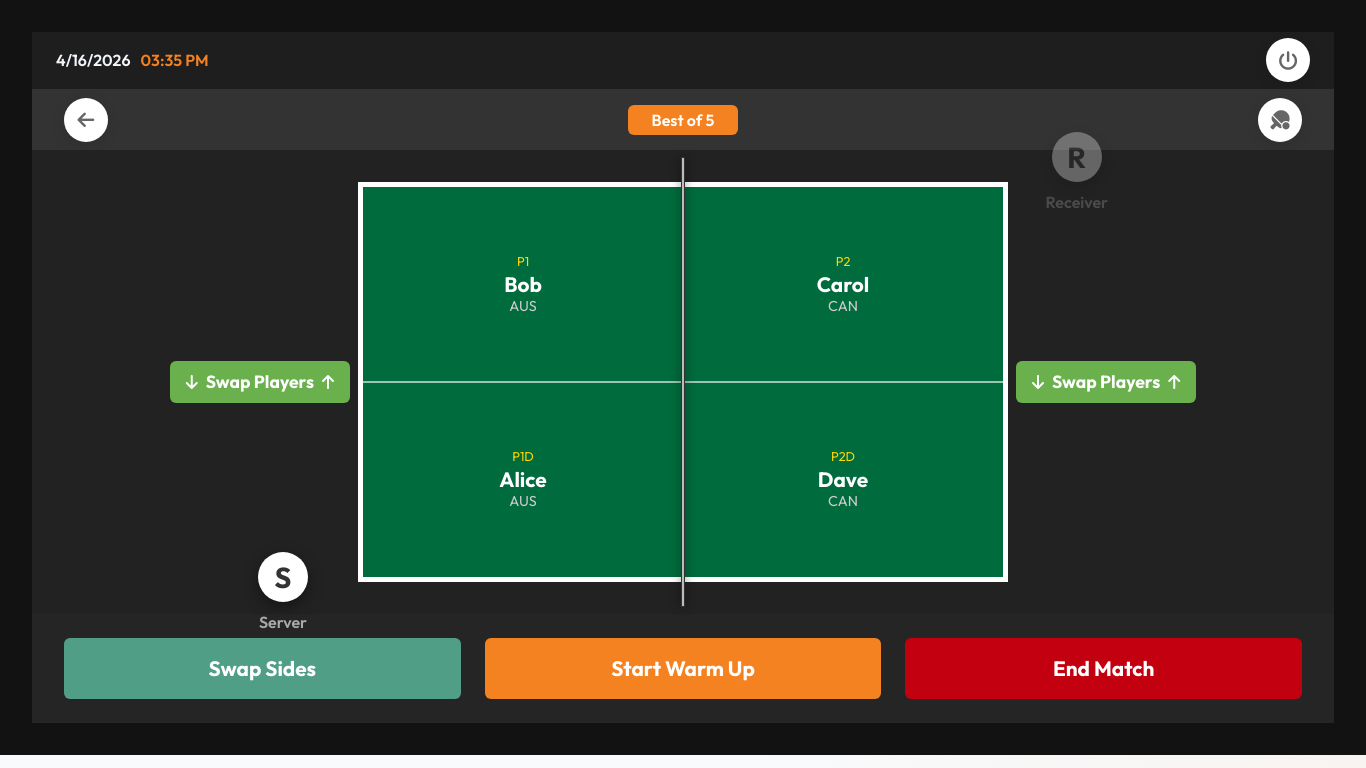
it: SetupView — doubles layout › Swap Players left button swaps TL and BL player names
The width and height of the screenshot is (1366, 768).
Expected: the element with class "doubles-tl" shows "Bob", left=504, top=271, right=542, bottom=297
Expected: the element with class "doubles-bl" shows "Alice", left=499, top=466, right=547, bottom=492
Click the button with class "swap-left-btn" at (260, 382), box left=170, top=361, right=350, bottom=403
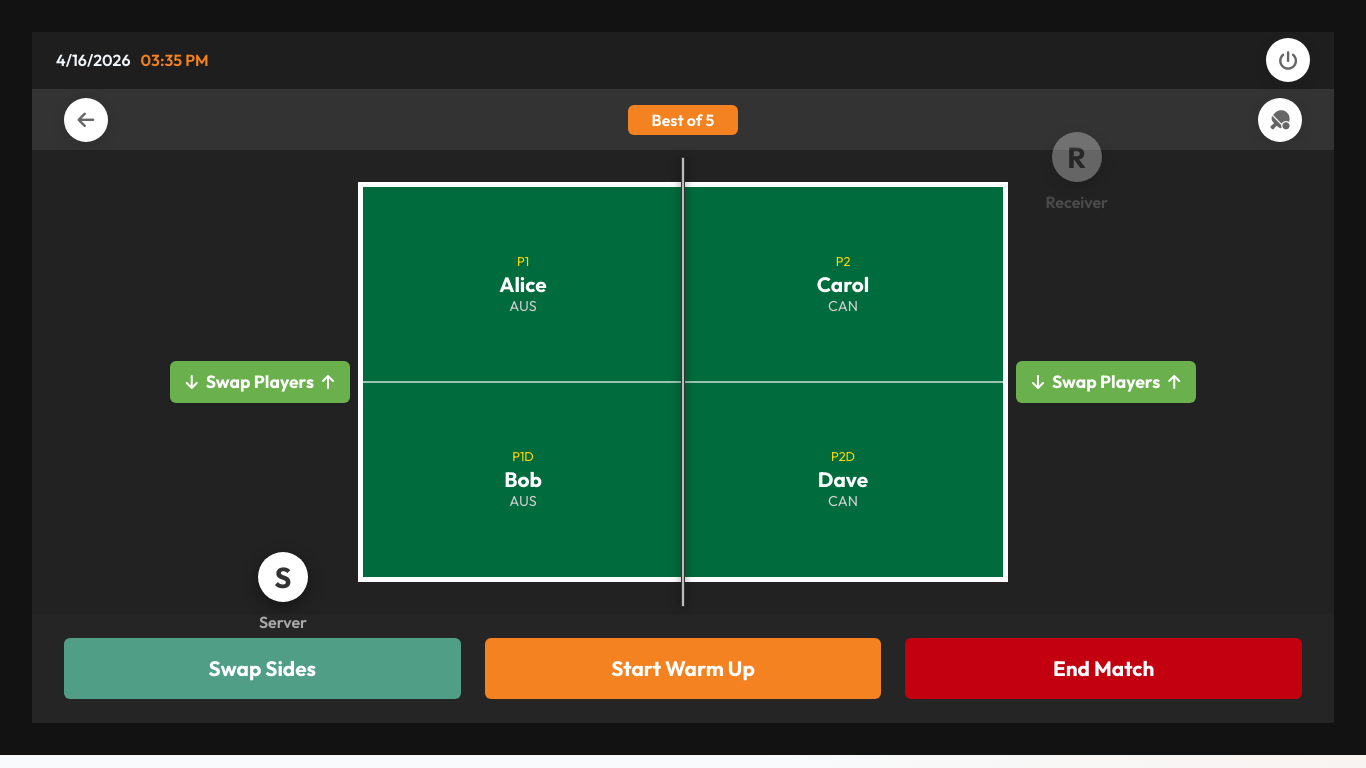
Now the element with class "doubles-tl" shows "Alice", box left=499, top=271, right=547, bottom=297
Now the element with class "doubles-bl" shows "Bob", box left=504, top=466, right=542, bottom=492
